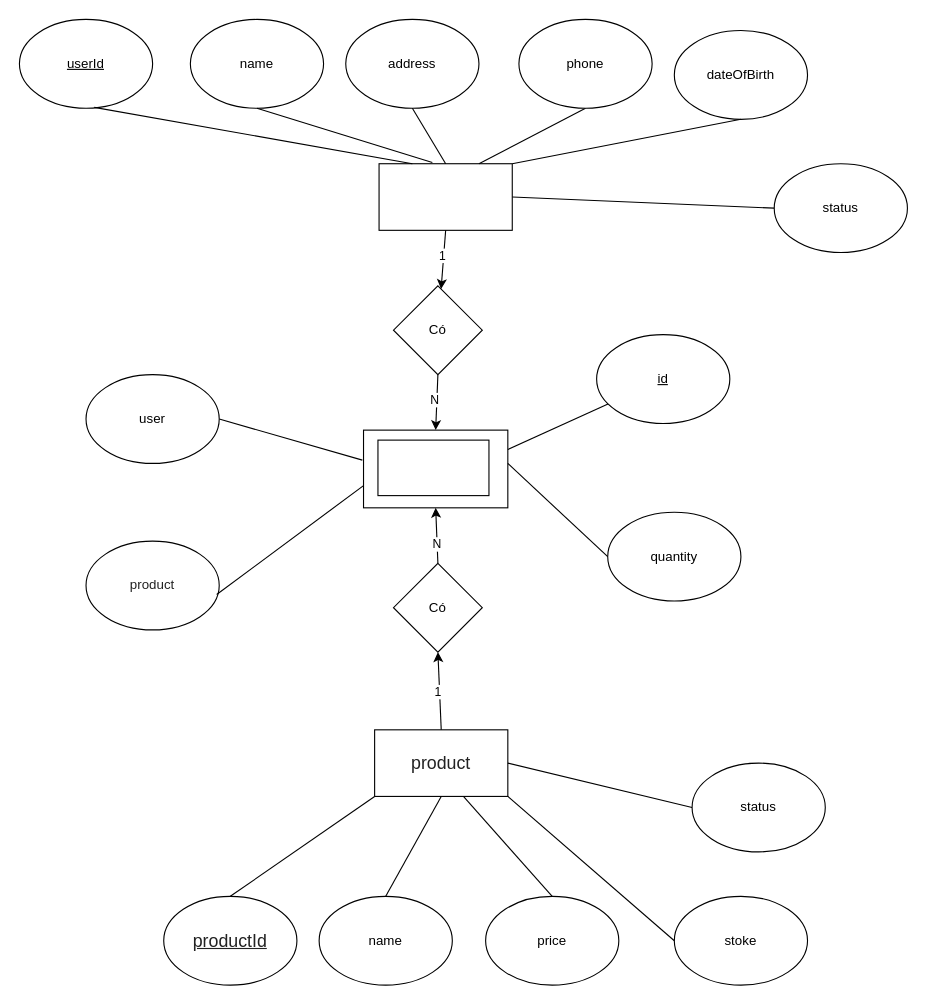
The diagram is 927 pixels wide and 1005 high, and some of its shapes have lost their labels. Each missing label, with the centre of its shape:
"shopping_cart" belongs at pixel 433 467.
"users" belongs at pixel 445 196.
